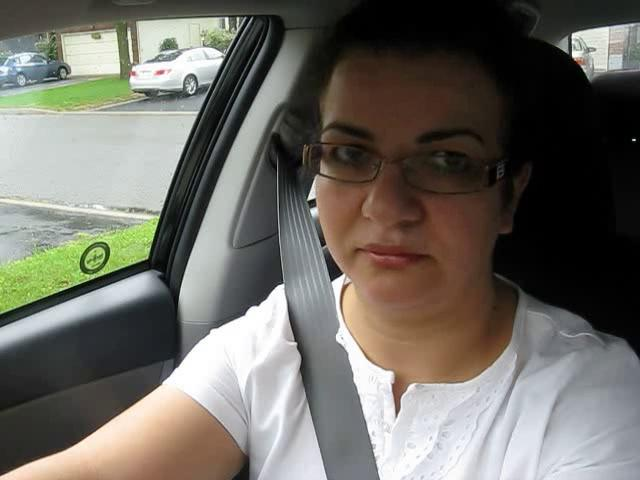no_yawn: (340, 227, 442, 283)
open_eyeL: (309, 132, 386, 182)
open_eyeR: (403, 141, 489, 194)
